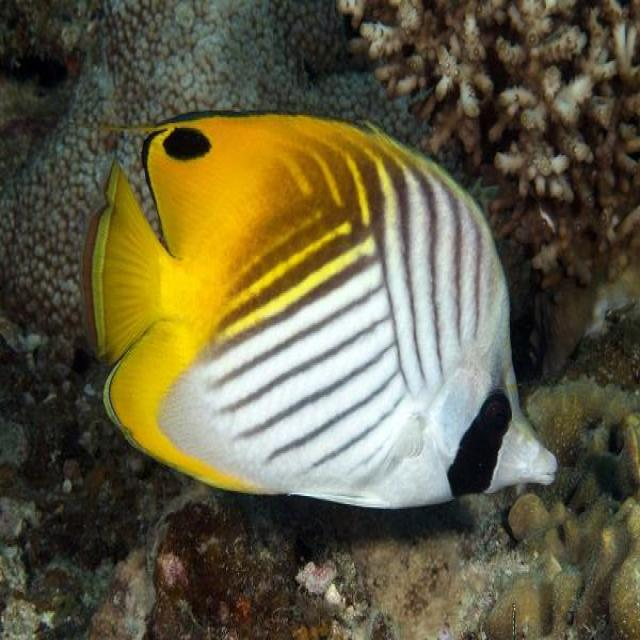ButterflyFish: (89, 111, 556, 504)
